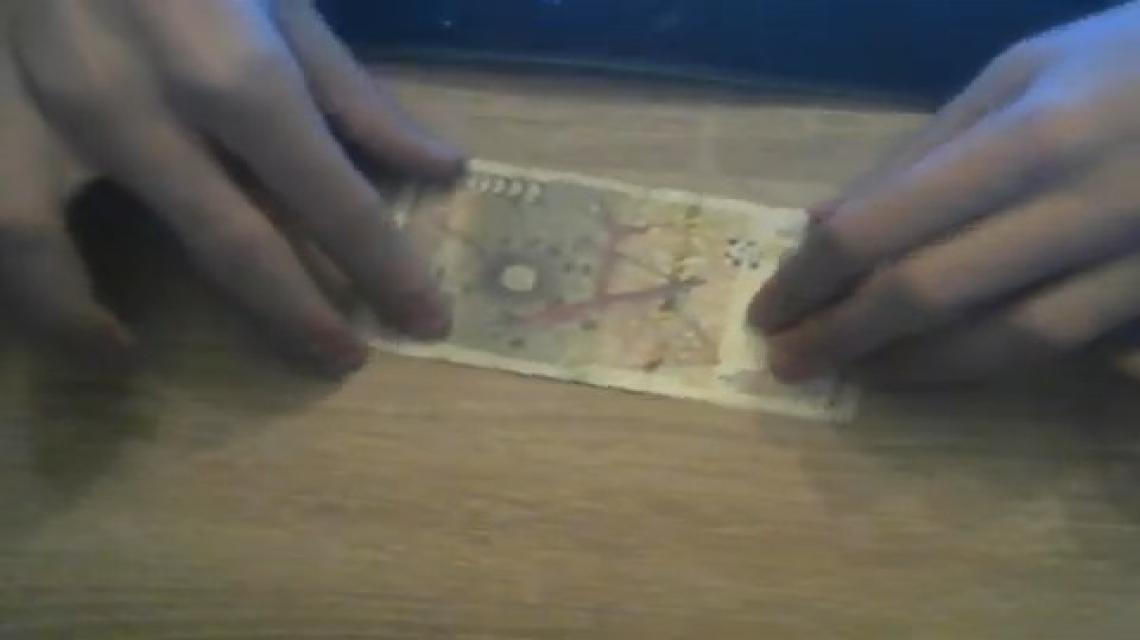10leva: (385, 160, 829, 418)
